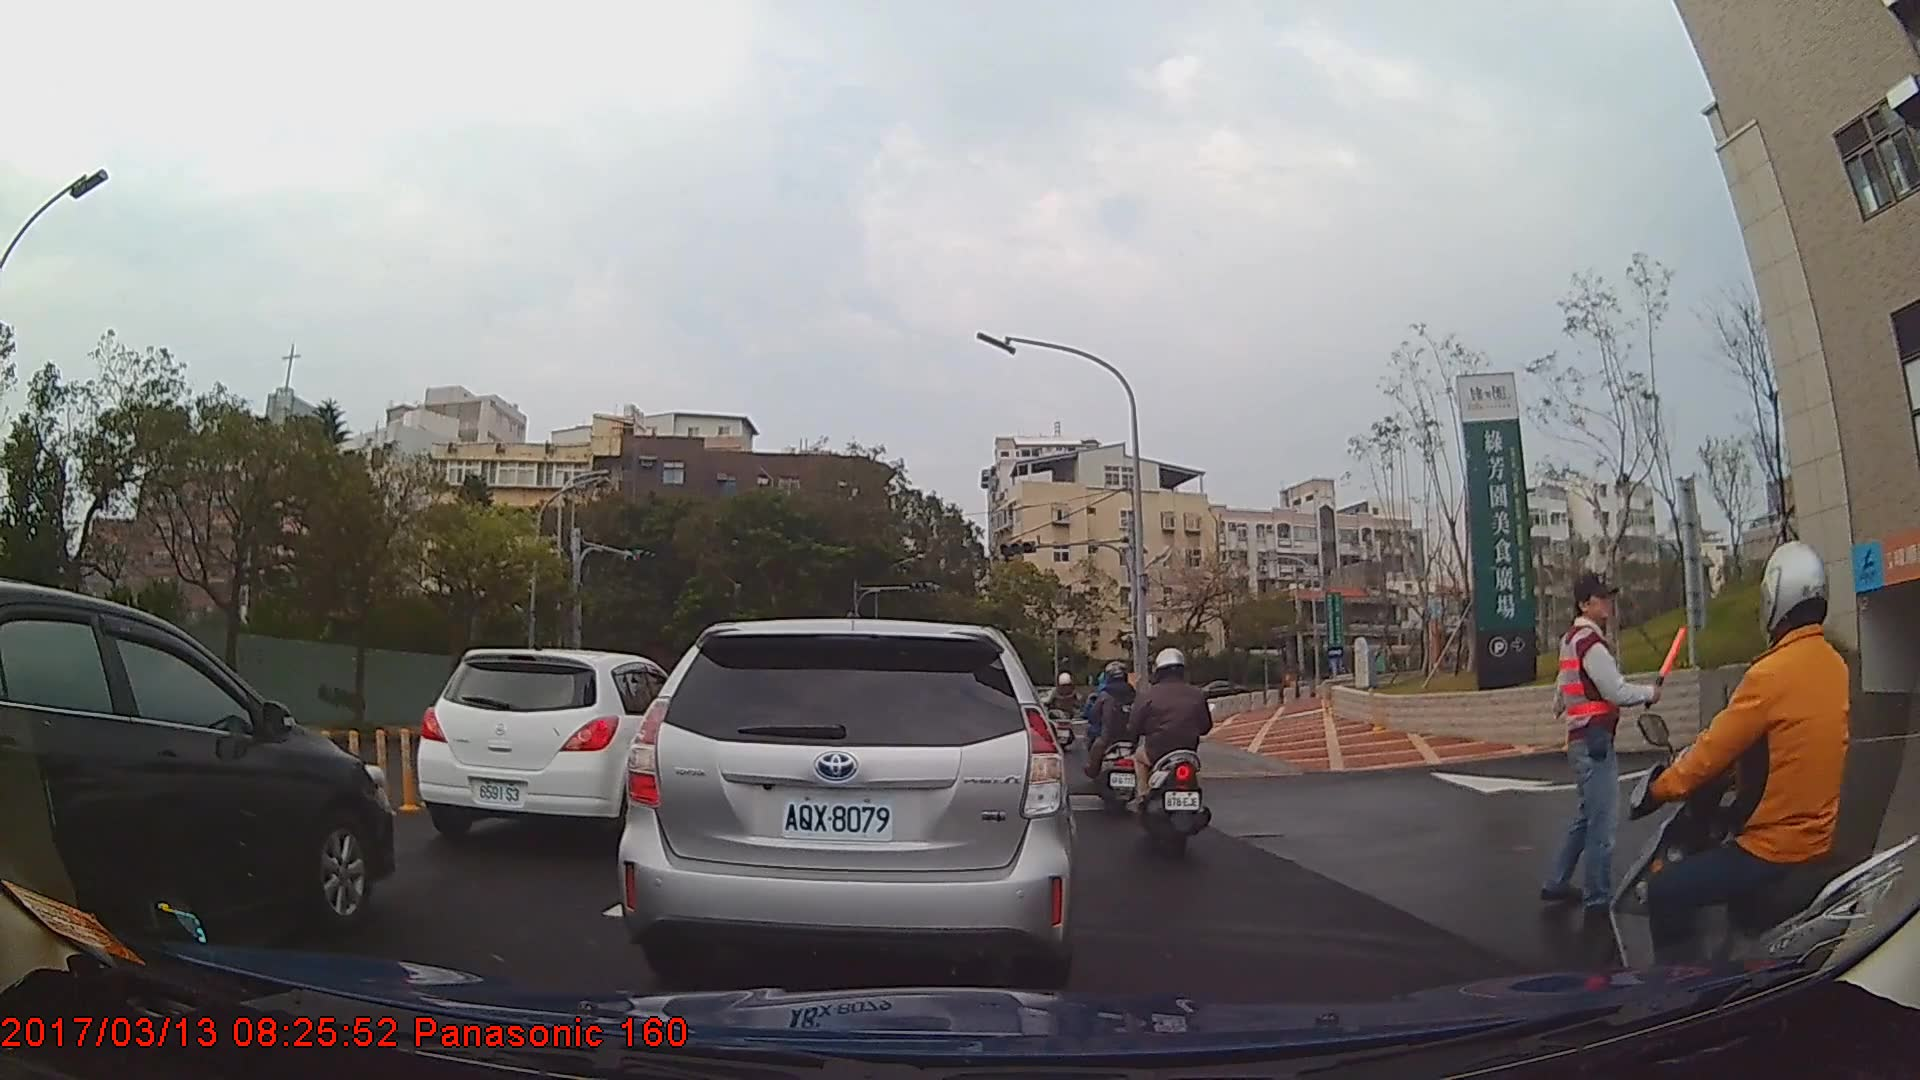pedestrian: (1544, 577, 1686, 913)
rider: (1566, 540, 1920, 1033), (1134, 646, 1212, 865), (1089, 661, 1145, 809), (1046, 671, 1079, 757)
vehicle: (618, 619, 1070, 984), (0, 579, 396, 960), (415, 649, 711, 845), (1183, 677, 1250, 710)
